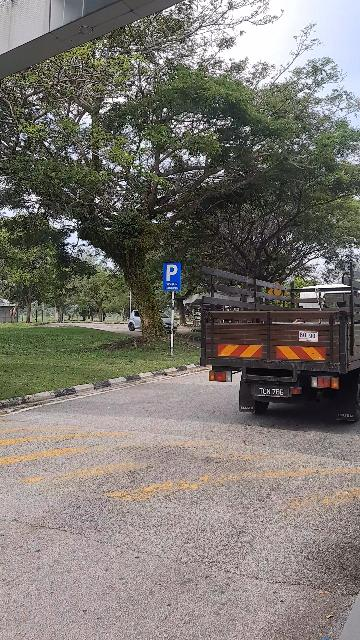License_Plate: (257, 382, 289, 398)
lorry: (200, 262, 360, 426)
